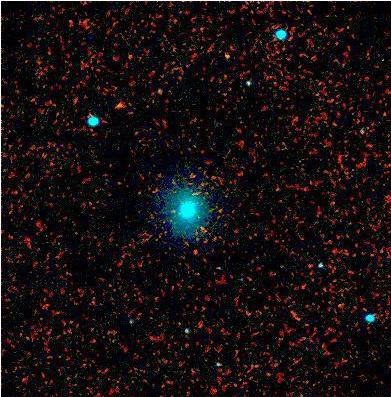star: (103, 90, 133, 120)
